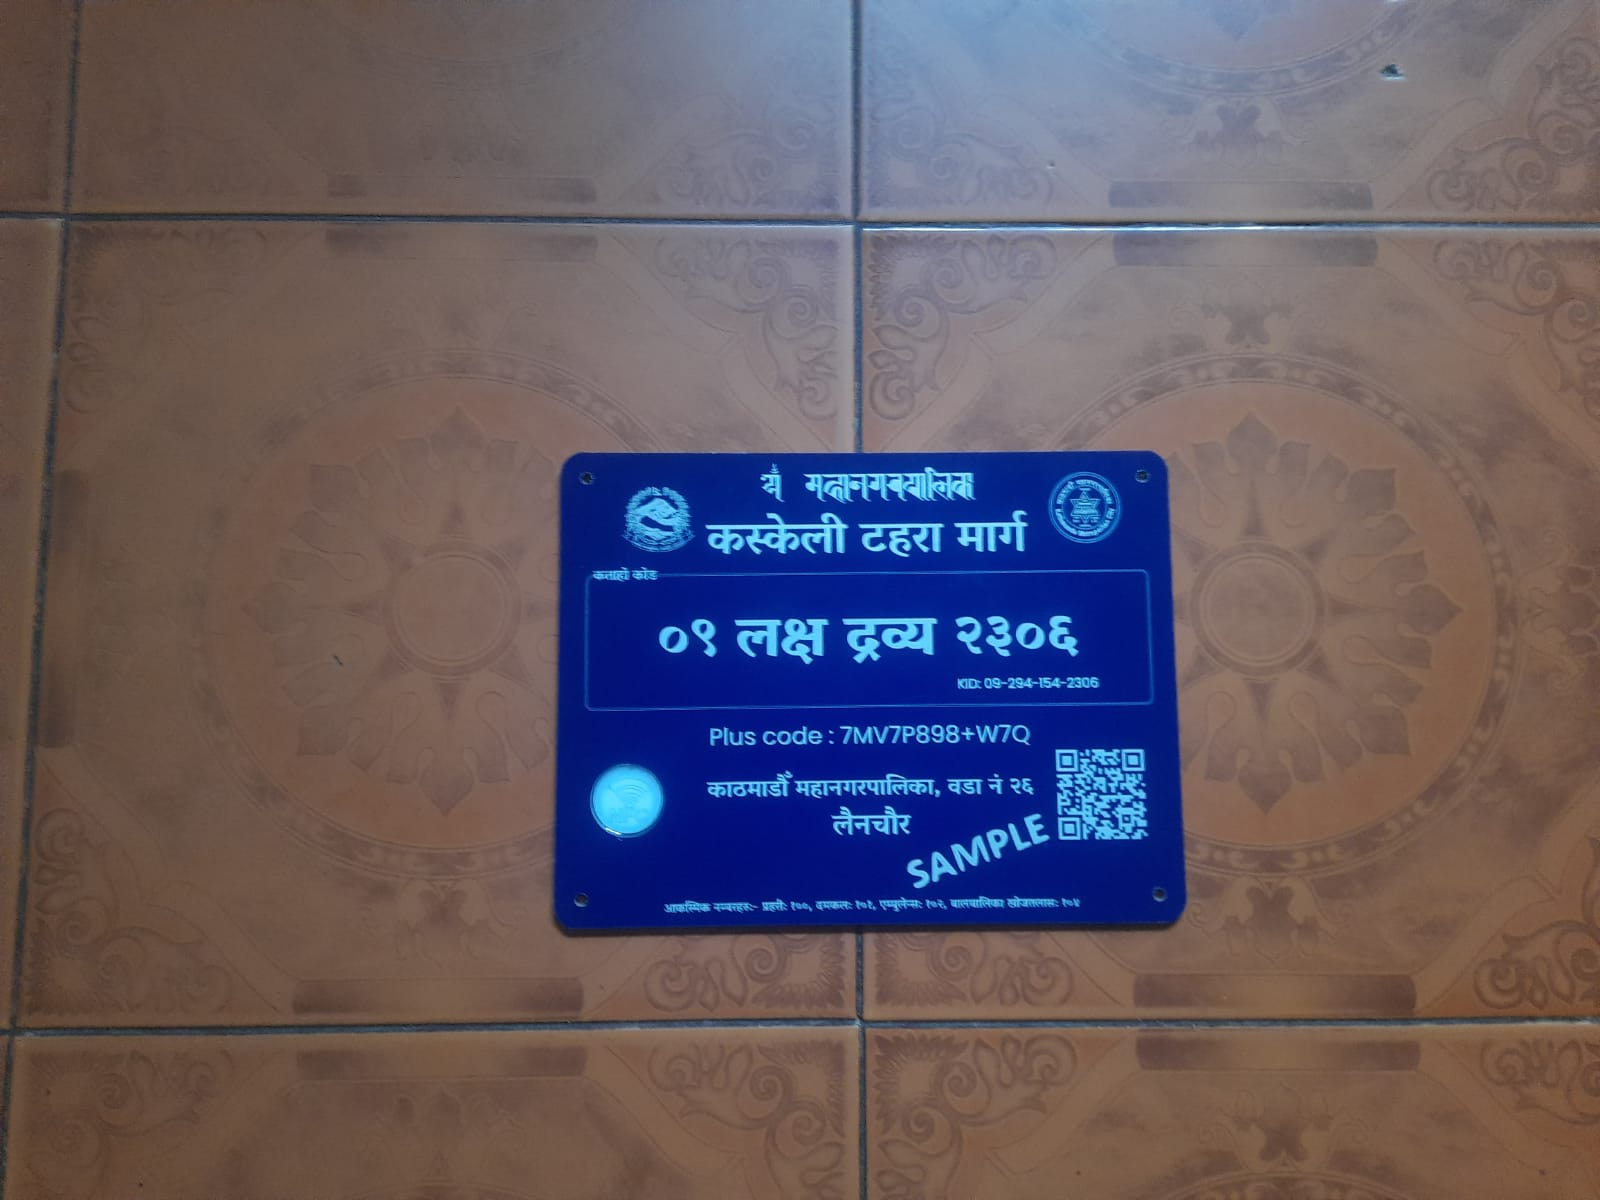Plate: (552, 450, 1193, 937)
